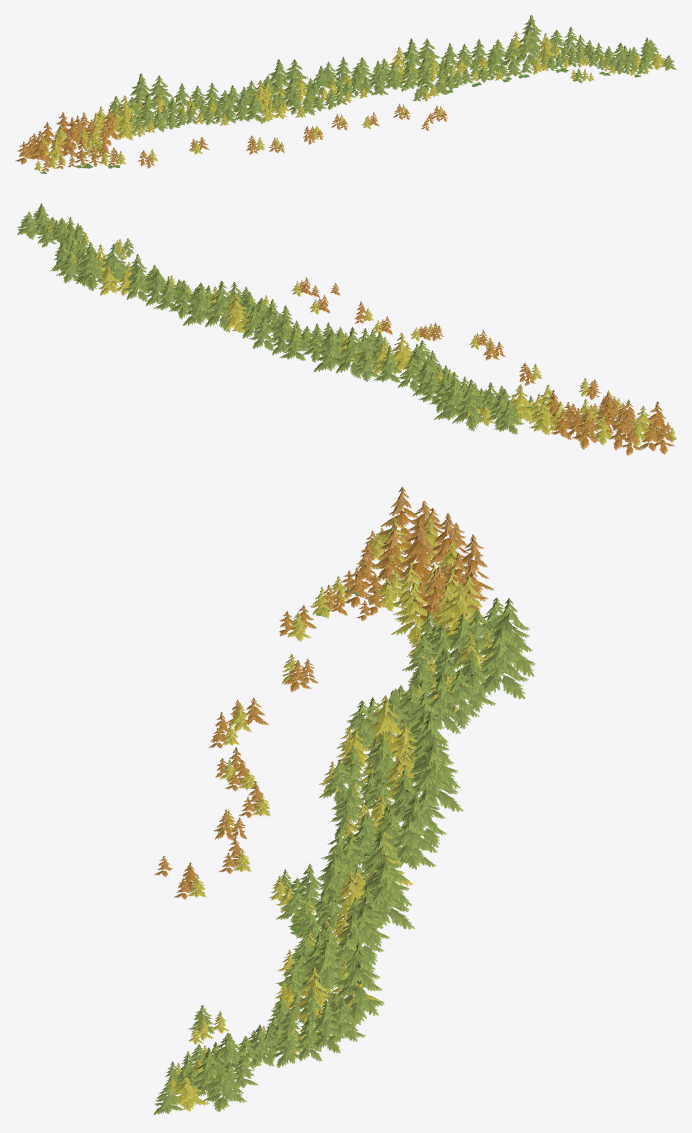
The model's file is area_11_9.FBX.
3 renders of one model, top to bottom at view 1: azimuth 30°, elevation 25°; view 2: azimuth 150°, elevation 25°; view 3: azimuth 270°, elevation 25°, orthographic. The views are drawn at different scales.
Visible parts, largest first — view 1: area_11_9; view 2: area_11_9; view 3: area_11_9.
Boxes of the visible parts, <box> form: area_11_9: <box>15,15,676,173</box>; area_11_9: <box>17,203,676,455</box>; area_11_9: <box>153,486,534,1114</box>.
Bounding box in the file's own units: 25863 × 1764 × 7377.
